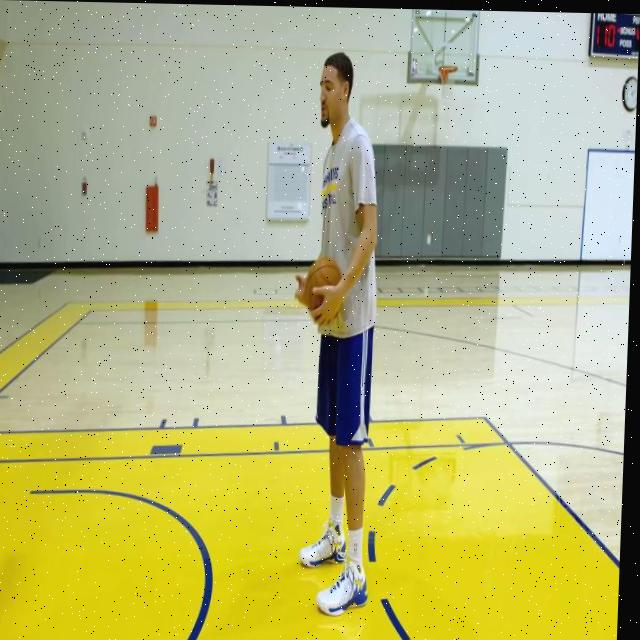Basketball: (303, 254, 344, 324)
hoop: (438, 65, 458, 99)
